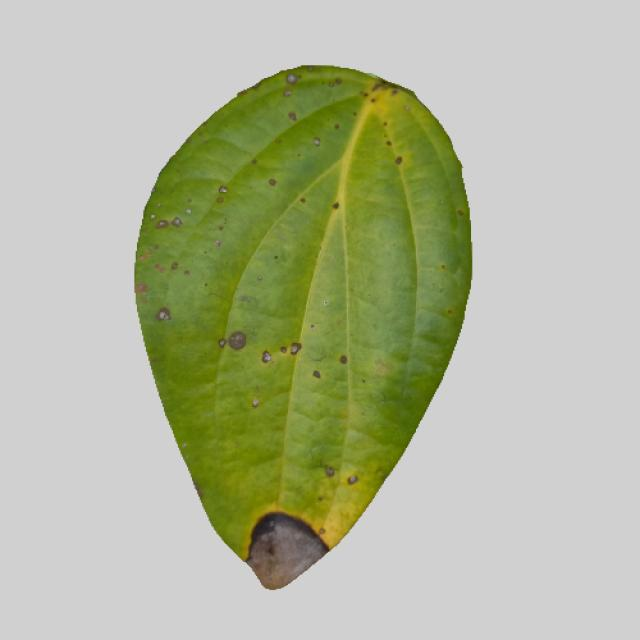leaf-blight: (123, 69, 479, 590)
